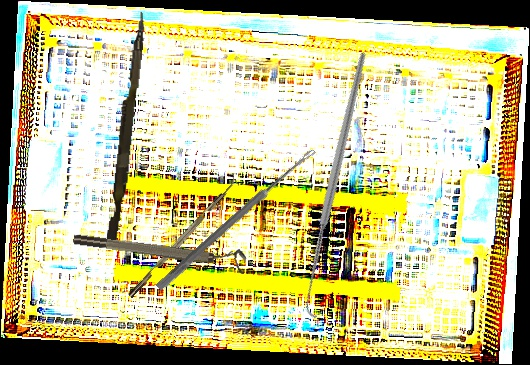Chopper: (122, 172, 241, 299)
Fixation Ring: (72, 223, 248, 275)
Hook Surgical: (206, 51, 471, 320)
Pusher: (106, 11, 147, 241)
Surgical Spoon: (155, 145, 317, 293)
